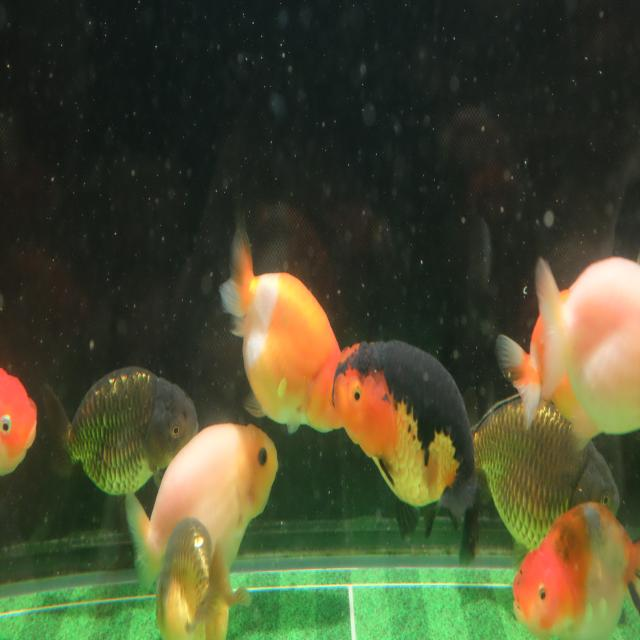Tilapia: (331, 338, 484, 570), (216, 223, 348, 436), (123, 423, 279, 600), (466, 390, 620, 555), (39, 364, 199, 501), (533, 250, 640, 437), (511, 499, 640, 640), (154, 515, 251, 640), (0, 363, 38, 480)
